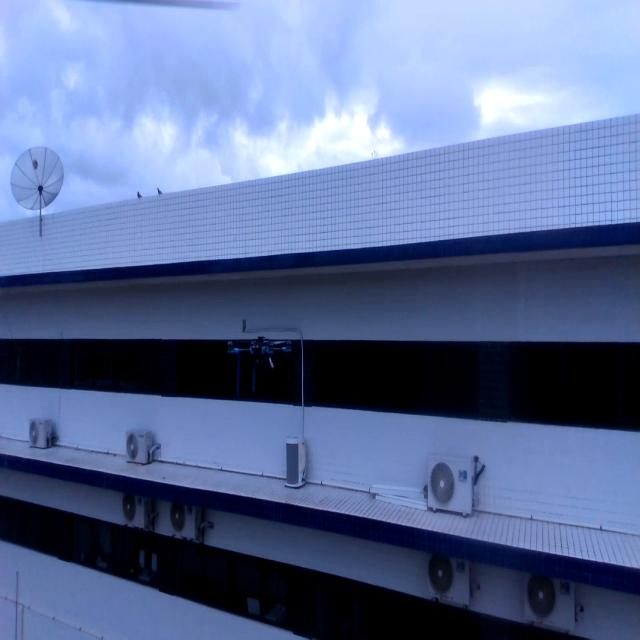-uav-: (216, 323, 296, 397)
